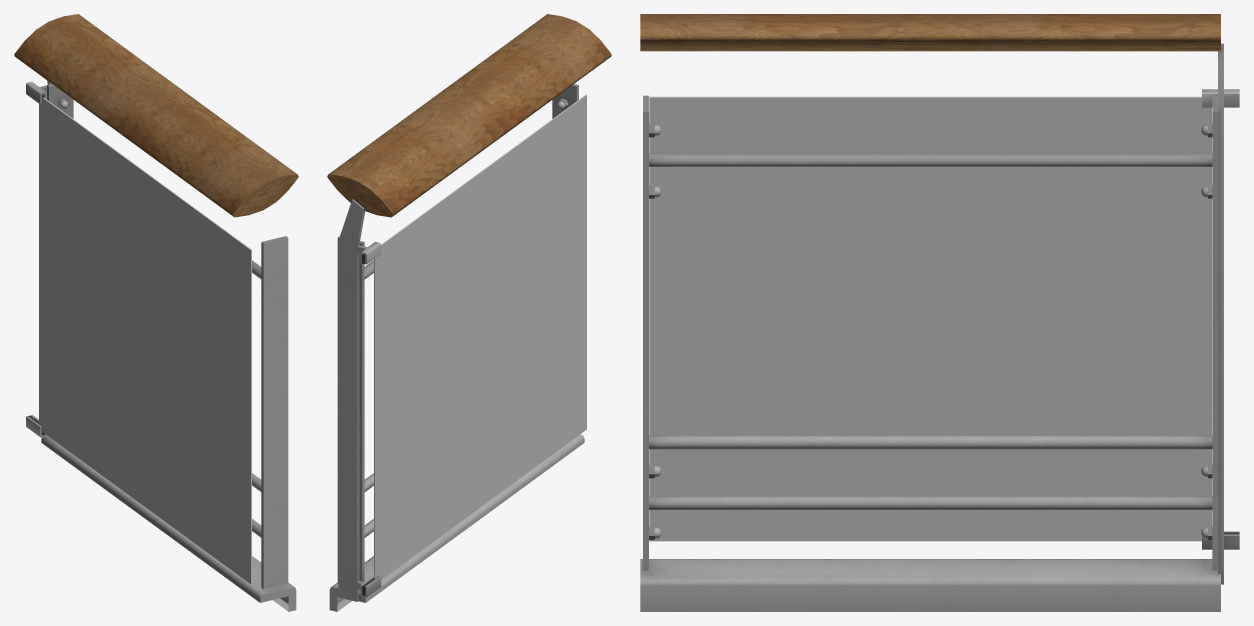
File: SM_Railing_01_100.fbx
The picture shows the model from 3 angles, left to right: view 1: azimuth 30°, elevation 25°; view 2: azimuth 150°, elevation 25°; view 3: azimuth 270°, elevation 25°; orthographic projection. The views are drawn at different scales.
Visible parts, largest first — view 1: SM_Railing_01_100_LOD0; view 2: SM_Railing_01_100_LOD0; view 3: SM_Railing_01_100_LOD0.
Boxes of the visible parts, <box> form: SM_Railing_01_100_LOD0: <box>14,14,298,611</box>; SM_Railing_01_100_LOD0: <box>327,14,611,611</box>; SM_Railing_01_100_LOD0: <box>640,14,1239,611</box>.
Bounding box in the file's own units: 17.31 × 103 × 110.
